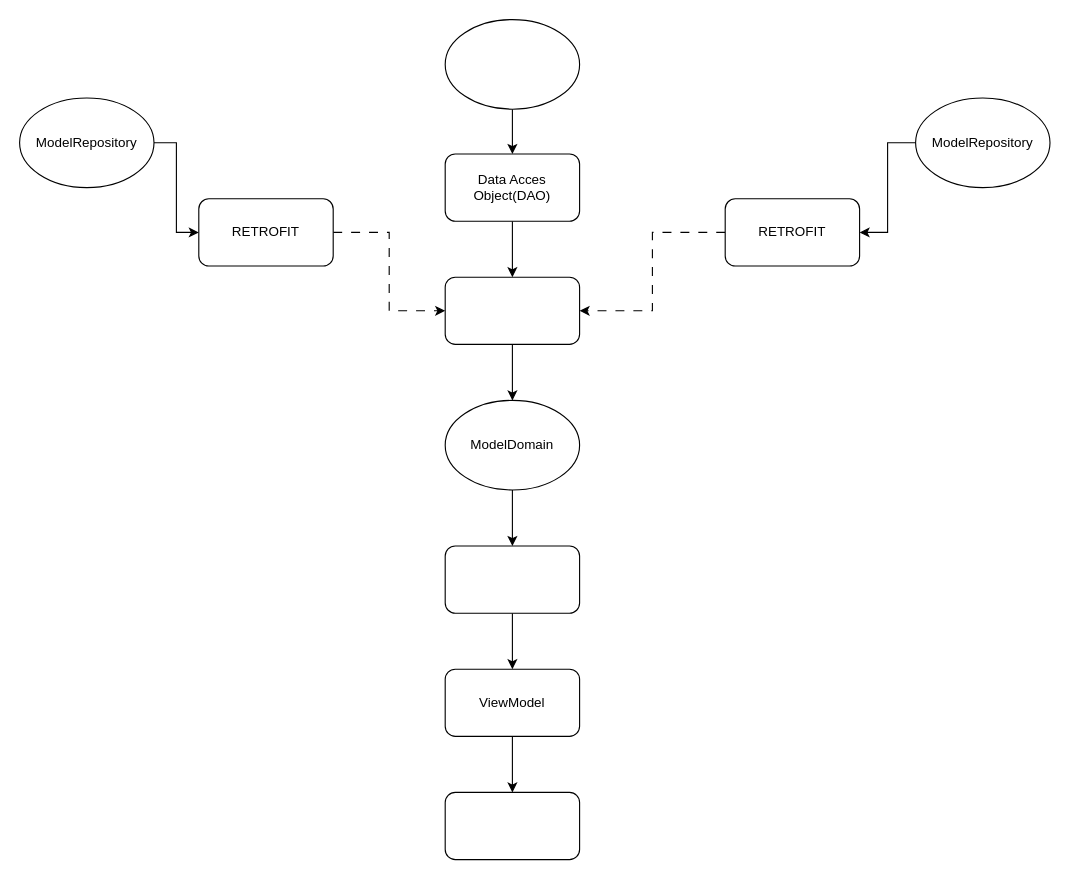
Image size: 1070x879. Some labels were removed from this diagram. Each missing label, with the centre of its shape:
Activity: pixel 512 825
ModelEntity: pixel 512 63
REPOSITORY: pixel 512 310
UseCase: pixel 512 579
